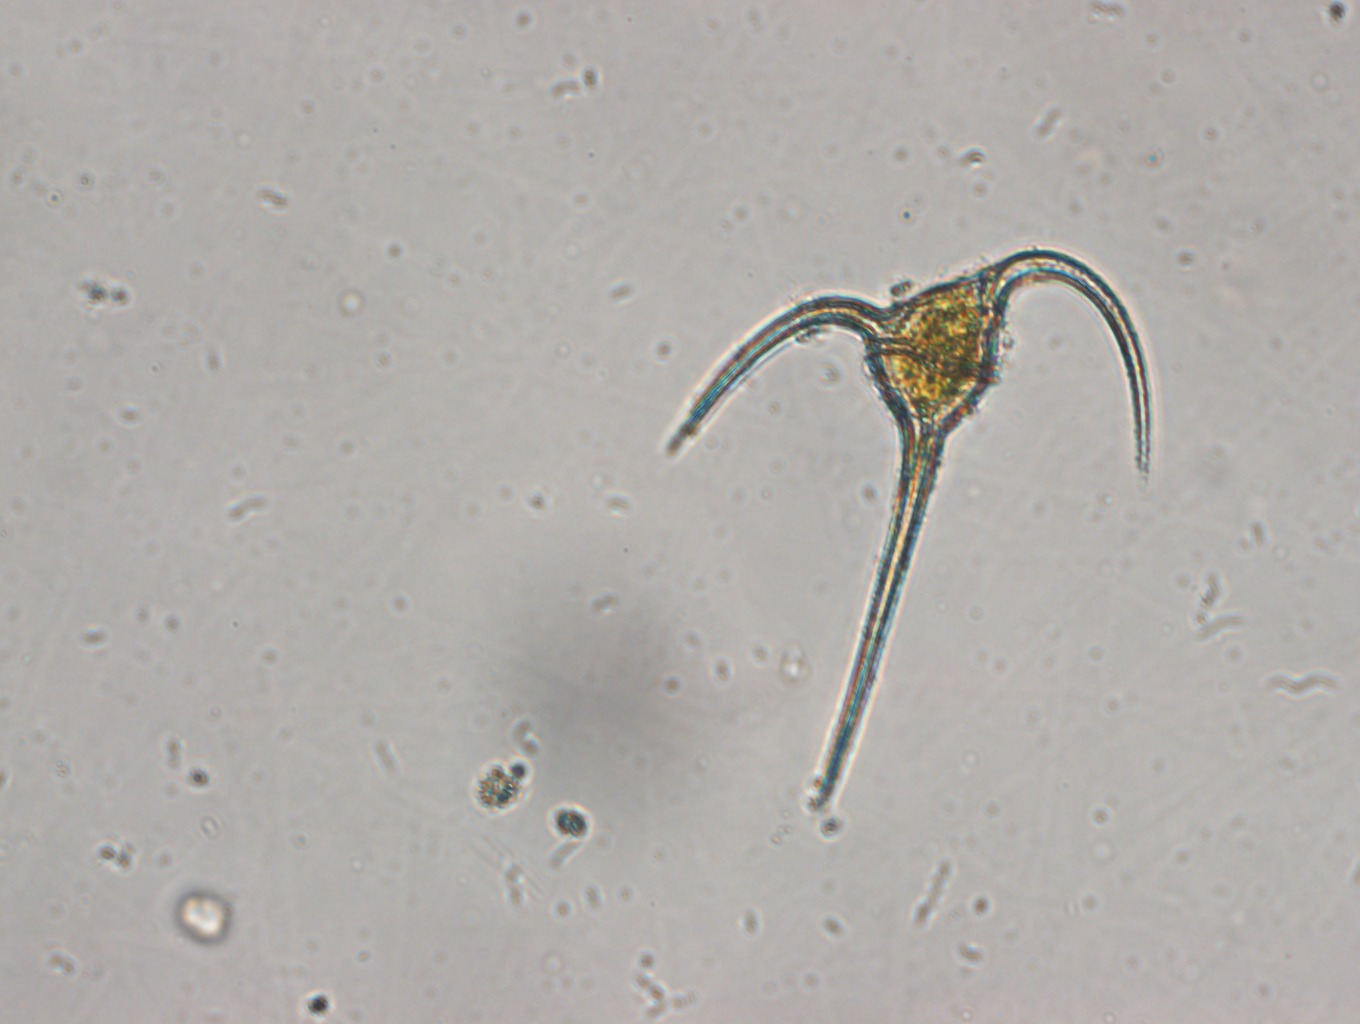ceratium trichoceros: (661, 239, 1159, 819)
